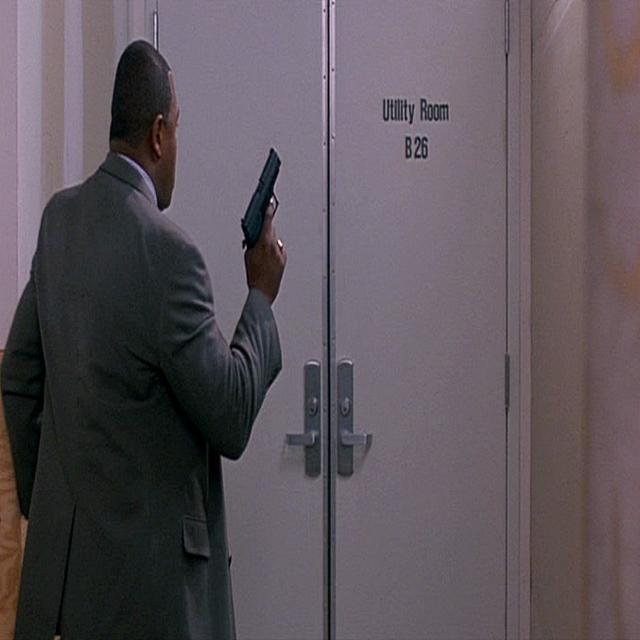gun-knife-thesis - v11 Yolov5 augmented: (237, 147, 287, 285)
